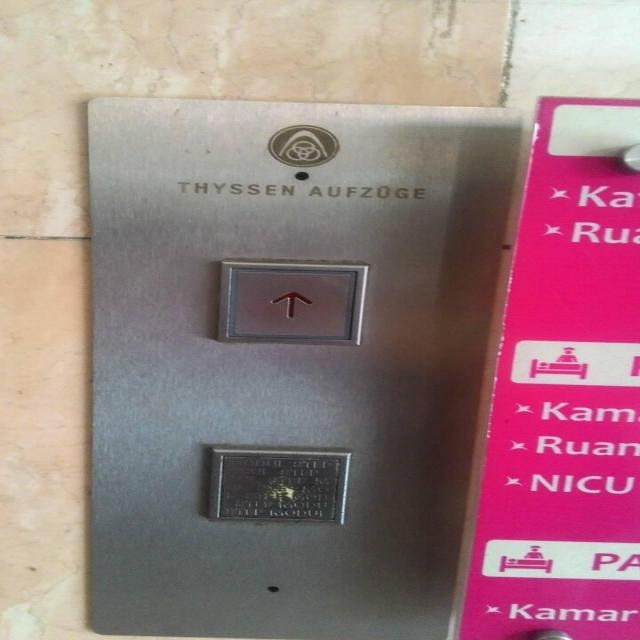text: (204, 447, 352, 525)
up: (213, 256, 371, 348)
